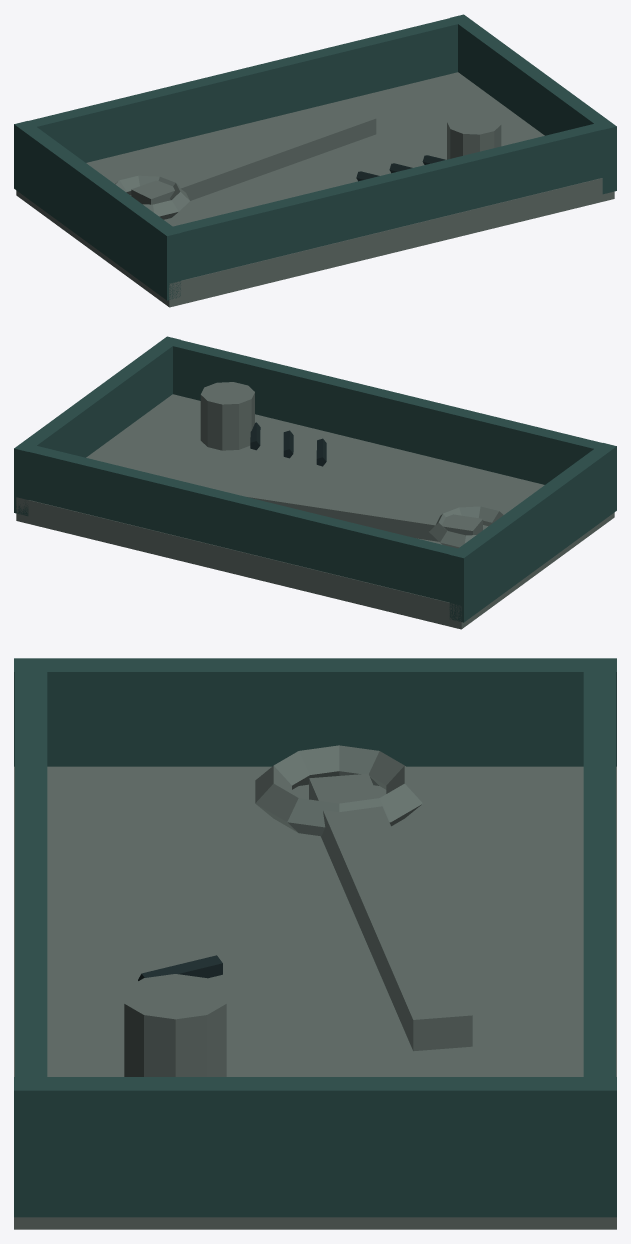
The model's file is tool-tray.glb.
3 views of the same model, one above another, from view 1: azimuth 30°, elevation 25°; view 2: azimuth 150°, elevation 25°; view 3: azimuth 270°, elevation 25° (orthographic). The views are drawn at different scales.
Visible parts, largest first — view 1: tool-tray; view 2: tool-tray; view 3: tool-tray.
Boxes of the visible parts, x1=… form: tool-tray: x1=14, y1=14, x2=616, y2=307; tool-tray: x1=14, y1=336, x2=616, y2=629; tool-tray: x1=14, y1=658, x2=616, y2=1229.
Size of the model in its own units: 0.475 by 0.0725 by 0.28.
